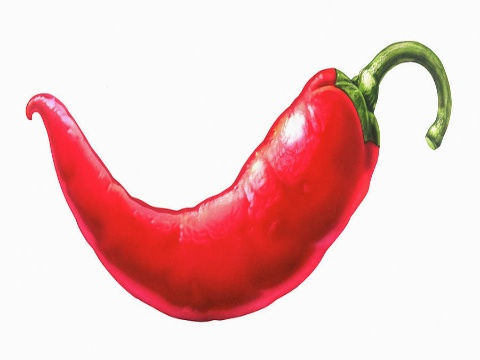Chilli: (18, 34, 465, 324)
